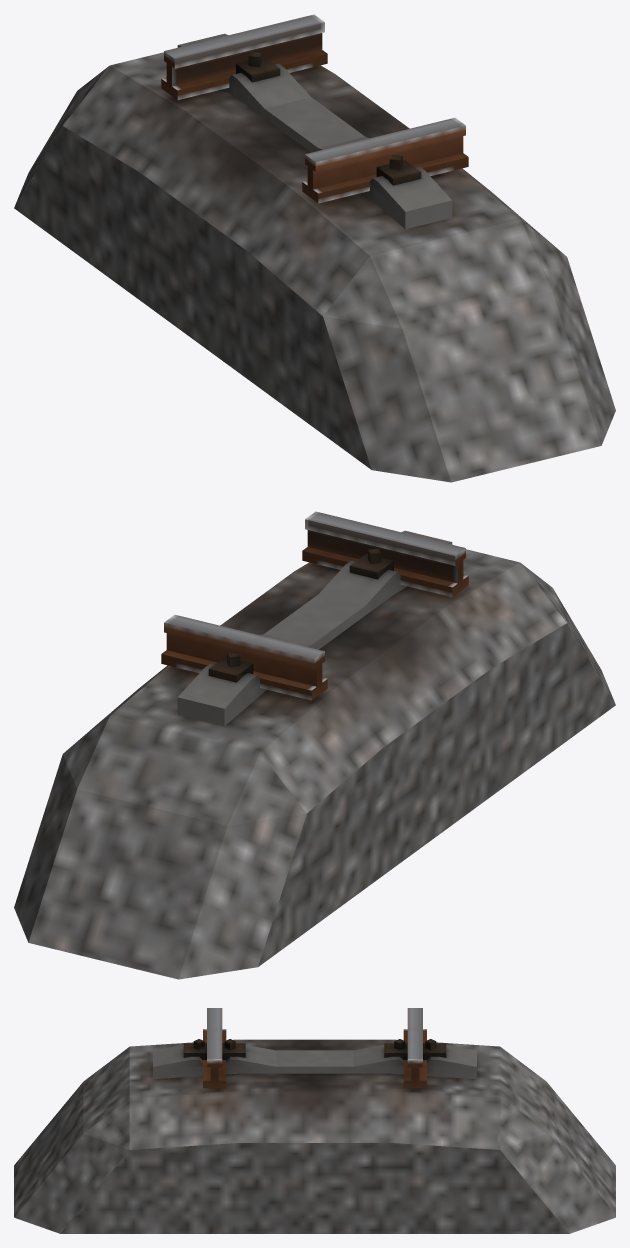
The model's file is mvp_ir_grunt_c.obj.
3 views of the same model, one above another, from view 1: azimuth 30°, elevation 25°; view 2: azimuth 150°, elevation 25°; view 3: azimuth 270°, elevation 25° (orthographic). The views are drawn at different scales.
Parts seen in each view (by area): view 1: RAIL_BASE_mvpRail_CG, RAIL_RIGHT_mvpRail_CG, RAIL_LEFT_mvpRail_CG; view 2: RAIL_BASE_mvpRail_CG, RAIL_LEFT_mvpRail_CG, RAIL_RIGHT_mvpRail_CG; view 3: RAIL_BASE_mvpRail_CG, RAIL_RIGHT_mvpRail_CG, RAIL_LEFT_mvpRail_CG.
Part boxes in pixels (x1,y1,x2,y2): RAIL_BASE_mvpRail_CG: [14, 33, 615, 482]; RAIL_RIGHT_mvpRail_CG: [161, 14, 327, 100]; RAIL_LEFT_mvpRail_CG: [302, 117, 468, 203]; RAIL_BASE_mvpRail_CG: [14, 530, 615, 979]; RAIL_LEFT_mvpRail_CG: [302, 511, 468, 597]; RAIL_RIGHT_mvpRail_CG: [161, 614, 327, 700]; RAIL_BASE_mvpRail_CG: [14, 1039, 615, 1233]; RAIL_RIGHT_mvpRail_CG: [403, 1008, 426, 1088]; RAIL_LEFT_mvpRail_CG: [203, 1008, 226, 1088].
Size of the model in its own units: 1.62 by 1.41 by 4.88.
2 materials, 2 textured.
